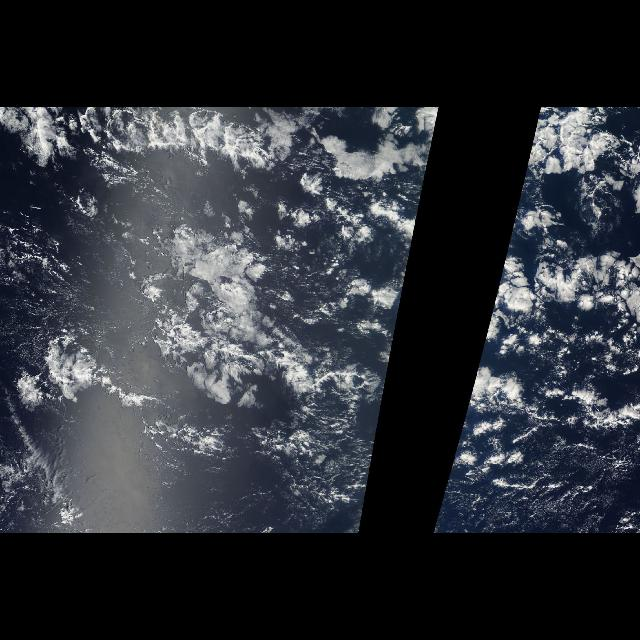Flower: (458, 168, 636, 442), (279, 168, 426, 442)
Sugar: (459, 433, 639, 532)
